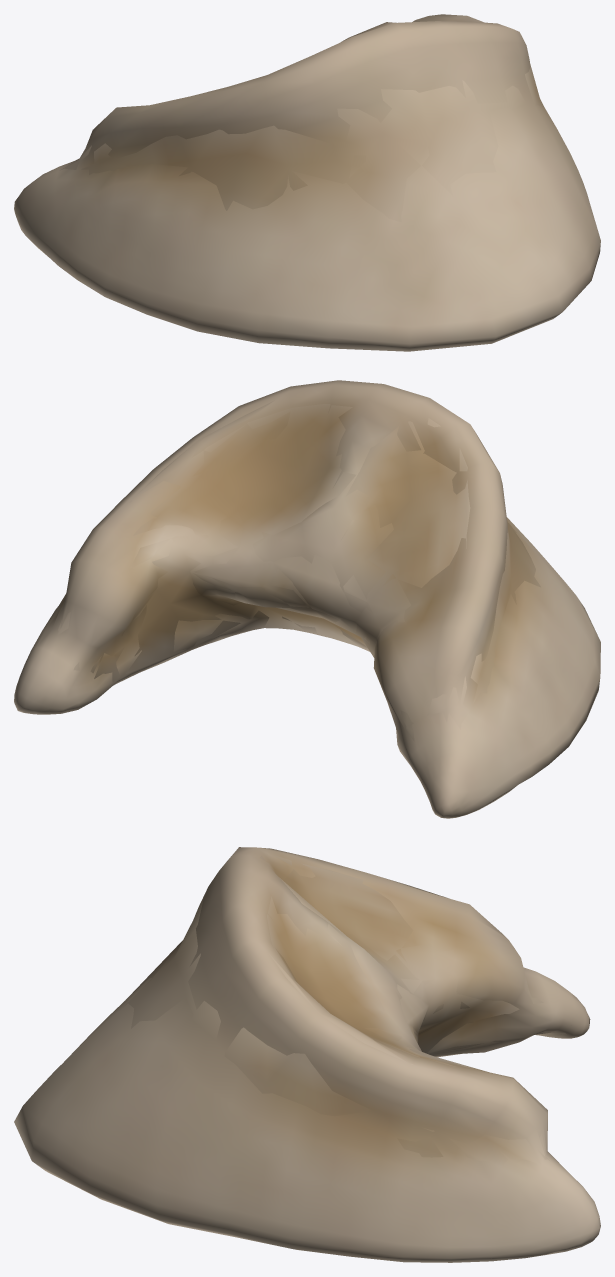
The model's file is FR 3rd Phalanx.fbx.
3 views of the same model, one above another, from view 1: azimuth 30°, elevation 25°; view 2: azimuth 150°, elevation 25°; view 3: azimuth 270°, elevation 25° (orthographic). The views are drawn at different scales.
Visible parts, largest first — view 1: FR 3rd Phalanx, FR 3rd Phalanx low; view 2: FR 3rd Phalanx, FR 3rd Phalanx low; view 3: FR 3rd Phalanx, FR 3rd Phalanx low.
Part boxes in pixels (x1,y1,x2,y2): FR 3rd Phalanx: (14, 14, 600, 351); FR 3rd Phalanx low: (60, 64, 544, 222); FR 3rd Phalanx: (14, 380, 600, 818); FR 3rd Phalanx low: (52, 400, 540, 790); FR 3rd Phalanx: (14, 847, 600, 1262); FR 3rd Phalanx low: (120, 855, 571, 1167).
Bounding box in the file's own units: 7.7 × 4.06 × 7.71.
Materials: 1 (1 with a texture image).
